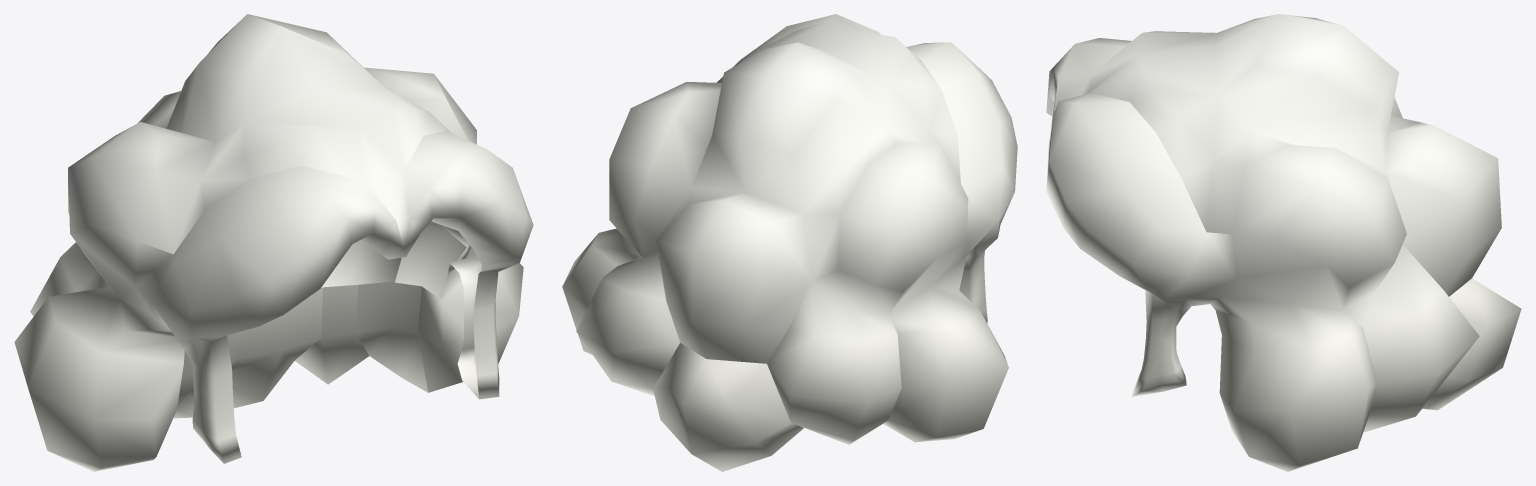
The model's file is Hair_White_17.fbx.
The picture shows the model from 3 angles, left to right: view 1: azimuth 30°, elevation 25°; view 2: azimuth 150°, elevation 25°; view 3: azimuth 270°, elevation 25°; orthographic projection. The views are drawn at different scales.
Visible parts, largest first — view 1: Hair_White_17; view 2: Hair_White_17; view 3: Hair_White_17.
Boxes of the visible parts, bbox=[...] form: Hair_White_17: bbox=[14, 14, 533, 471]; Hair_White_17: bbox=[562, 14, 1017, 471]; Hair_White_17: bbox=[1046, 14, 1521, 471].
Size of the model in its own units: 85.16 by 70.13 by 76.23.
